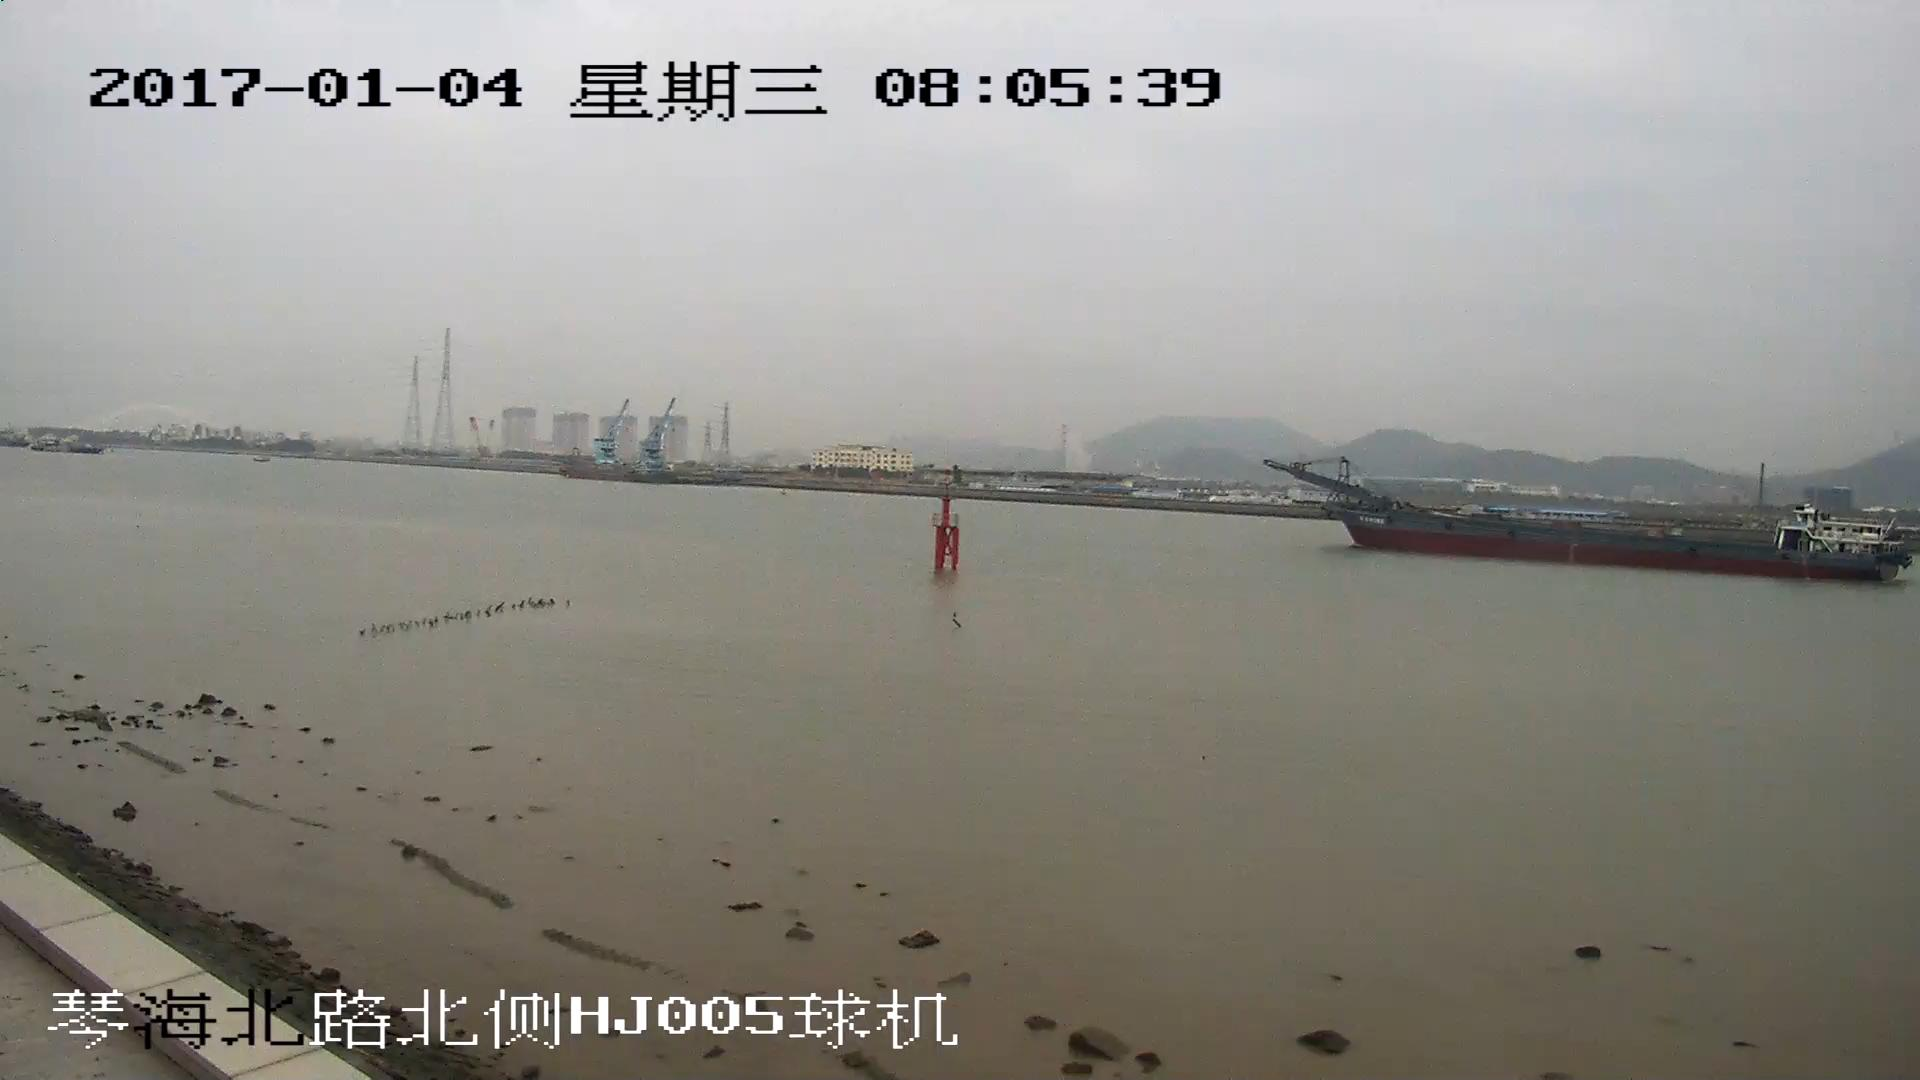bulk cargo carrier: (1265, 461, 1914, 586)
